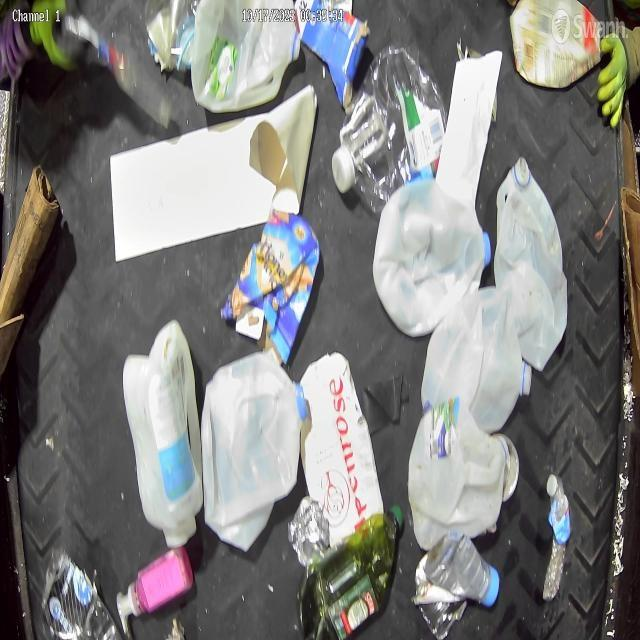milk_jug: (202, 348, 305, 552), (374, 178, 494, 334), (123, 321, 202, 549), (423, 282, 527, 436), (494, 166, 568, 373), (408, 402, 508, 545), (190, 1, 302, 114)
non_white_jug: (332, 42, 446, 214), (509, 0, 601, 90)
plastic_bottle: (542, 474, 567, 602)
